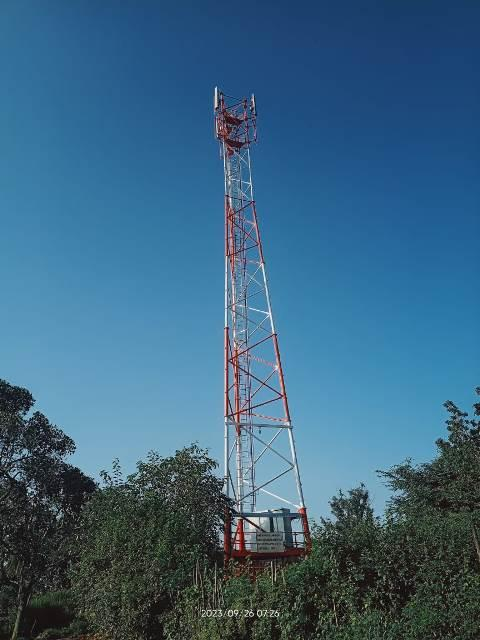GSM Antenna: (247, 89, 262, 119), (208, 84, 223, 113)
